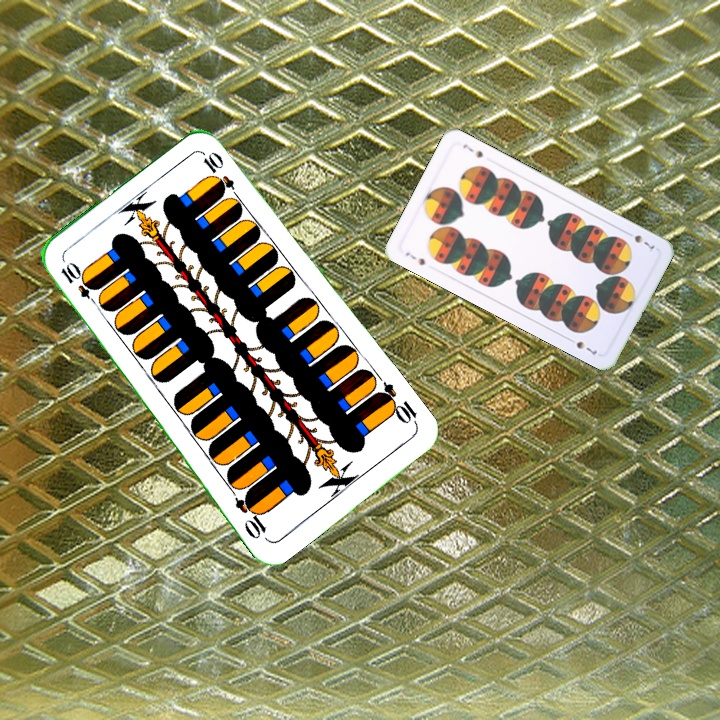E10: (372, 379, 421, 430), (56, 258, 103, 309)
S7: (622, 227, 659, 253), (401, 248, 428, 268)
